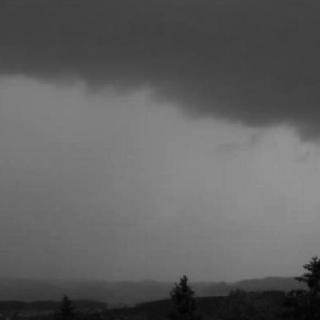Nimbostratus: (0, 0, 320, 159)
